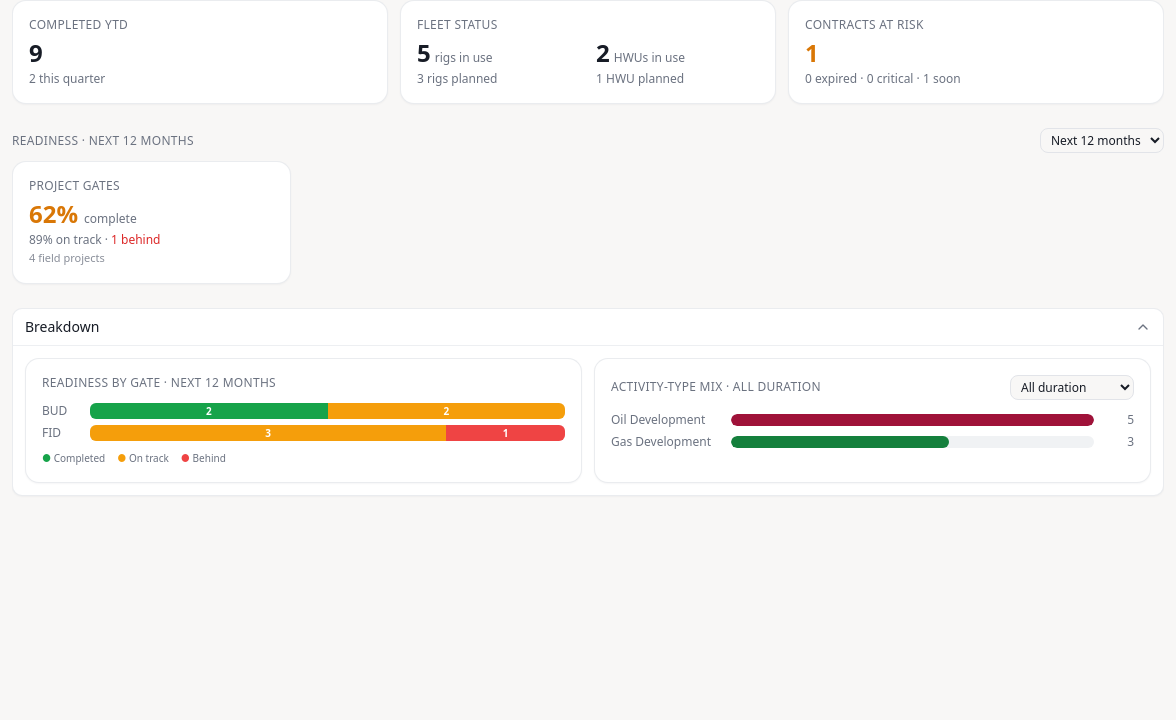
Test: ProjectDashboard › activity-mix horizon select refetches with its own window and relabels
expect the text "Fleet status" is shown: met, box 417,16 -> 498,33
expect the text "Activity-type mix · all duration" is shown: met, box 611,379 -> 821,395
Select "Next 6 months" in the dropdown named "Activity mix horizon" at coordinates (1072, 387), box 1010,374 -> 1134,400
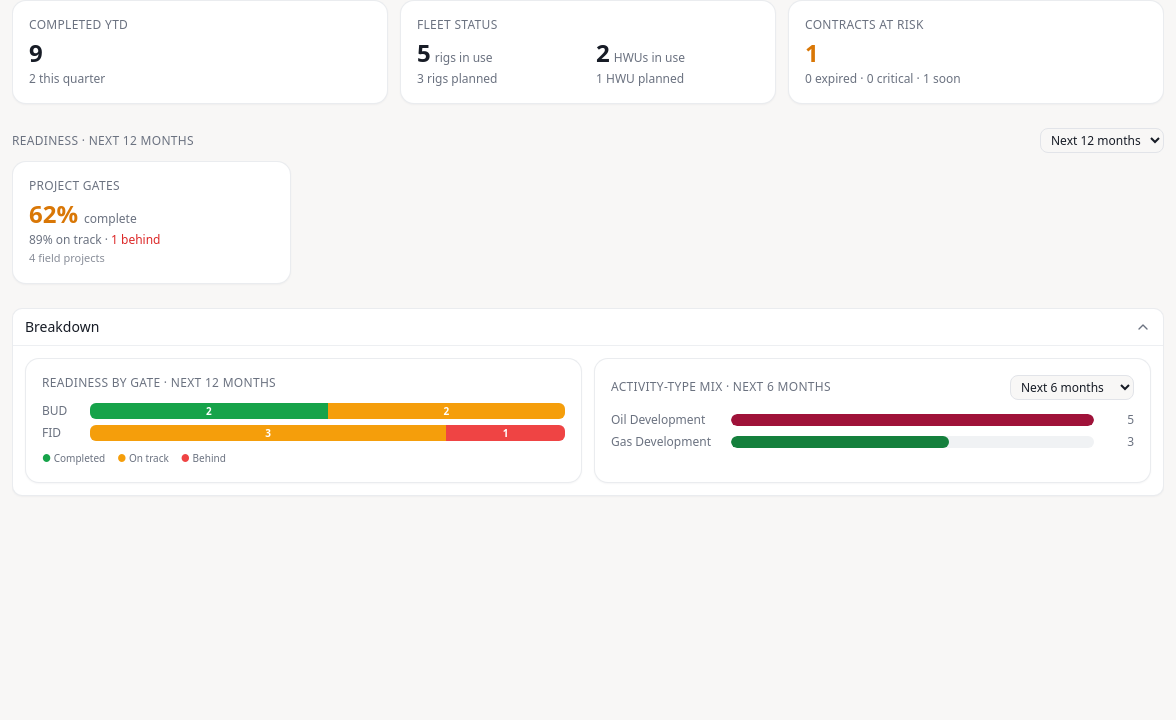
expect the text "Readiness by gate · next 12 months" is shown: met, box 42,374 -> 276,390
expect the text "Activity-type mix · next 6 months" is shown: met, box 611,379 -> 831,395
